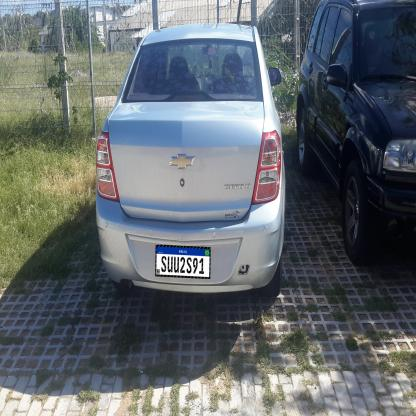PlacaM: (155, 245, 211, 279)
